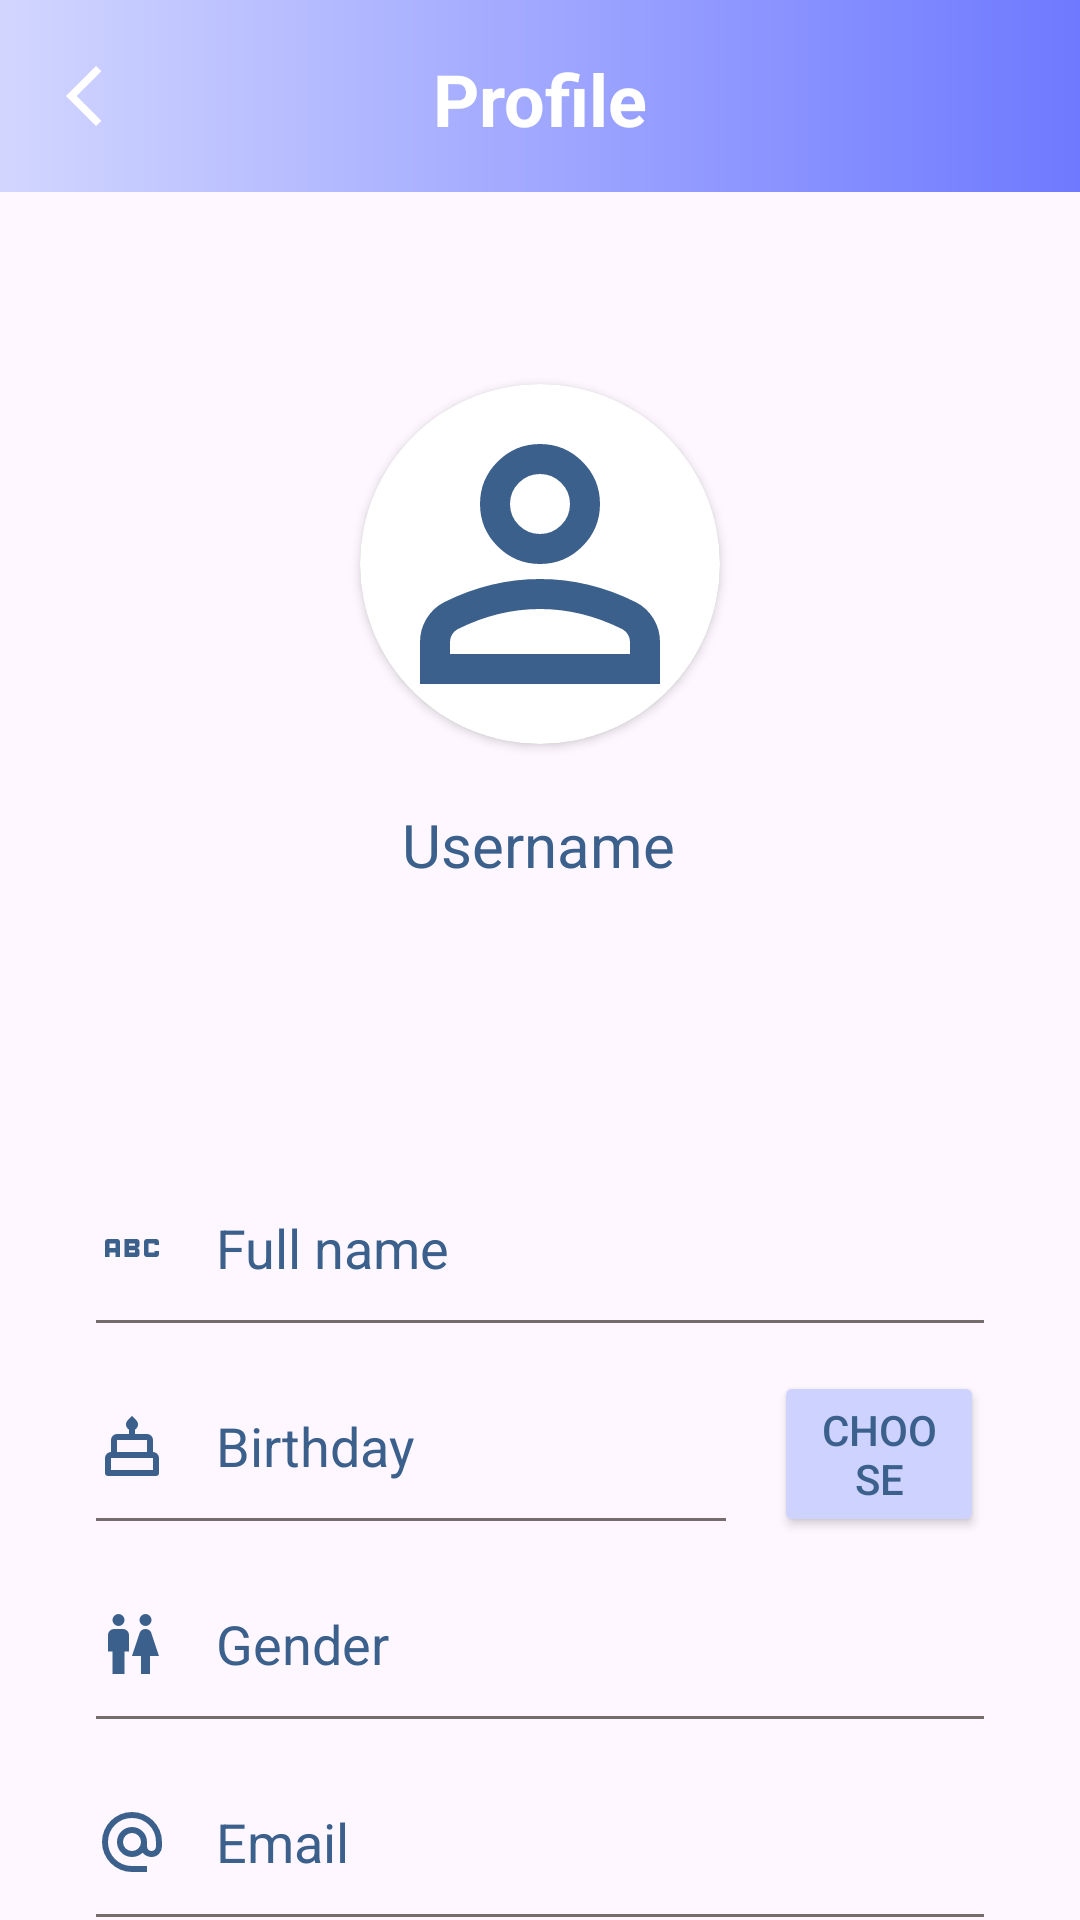

Icons on this 1080x1920 Android screen, each with its box as box=[x1, y1, x2, y2]:
person: box=[360, 384, 720, 744]
